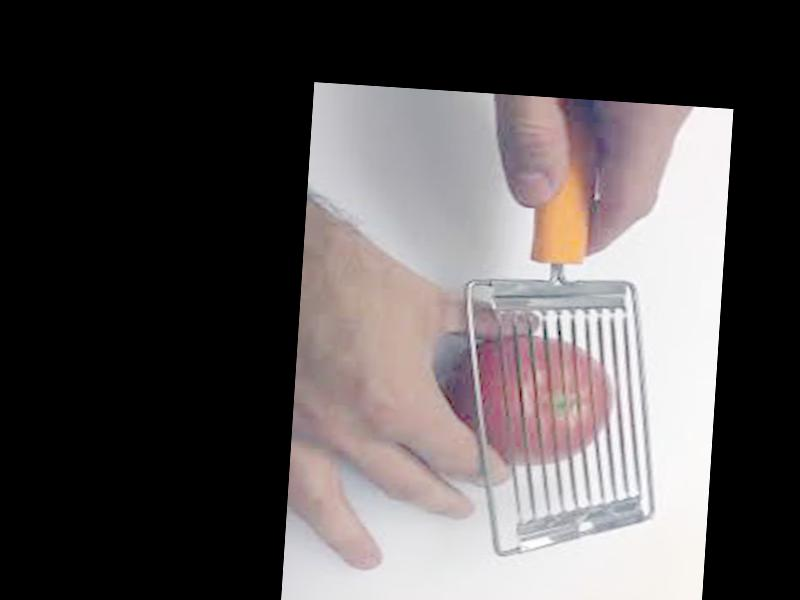Tomato: (447, 328, 615, 467)
